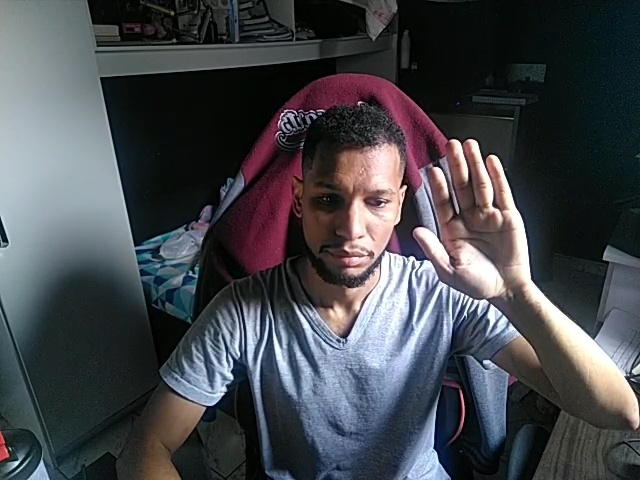oi: (414, 134, 537, 302)
